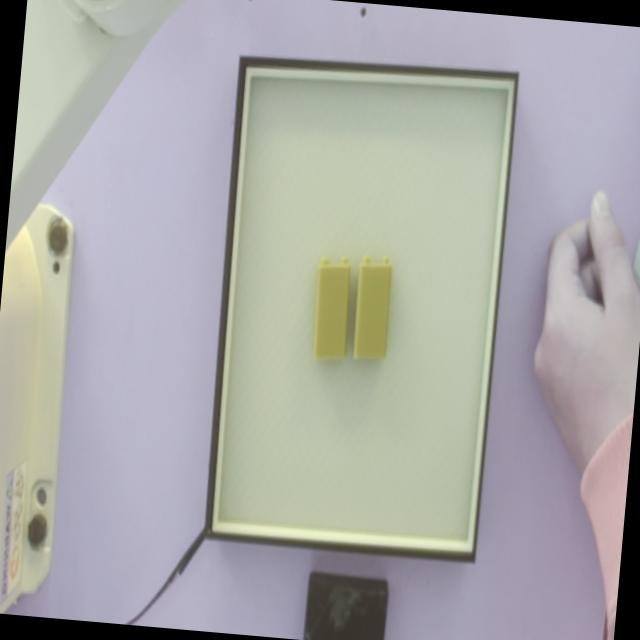bateria: (312, 258, 352, 362), (352, 256, 392, 359)
mesa: (203, 53, 519, 564)
